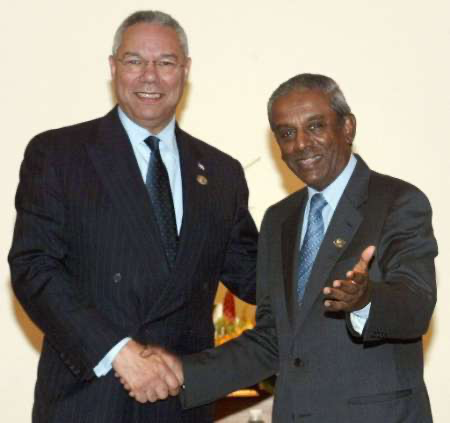Face: (119, 24, 185, 129), (275, 91, 342, 189)
